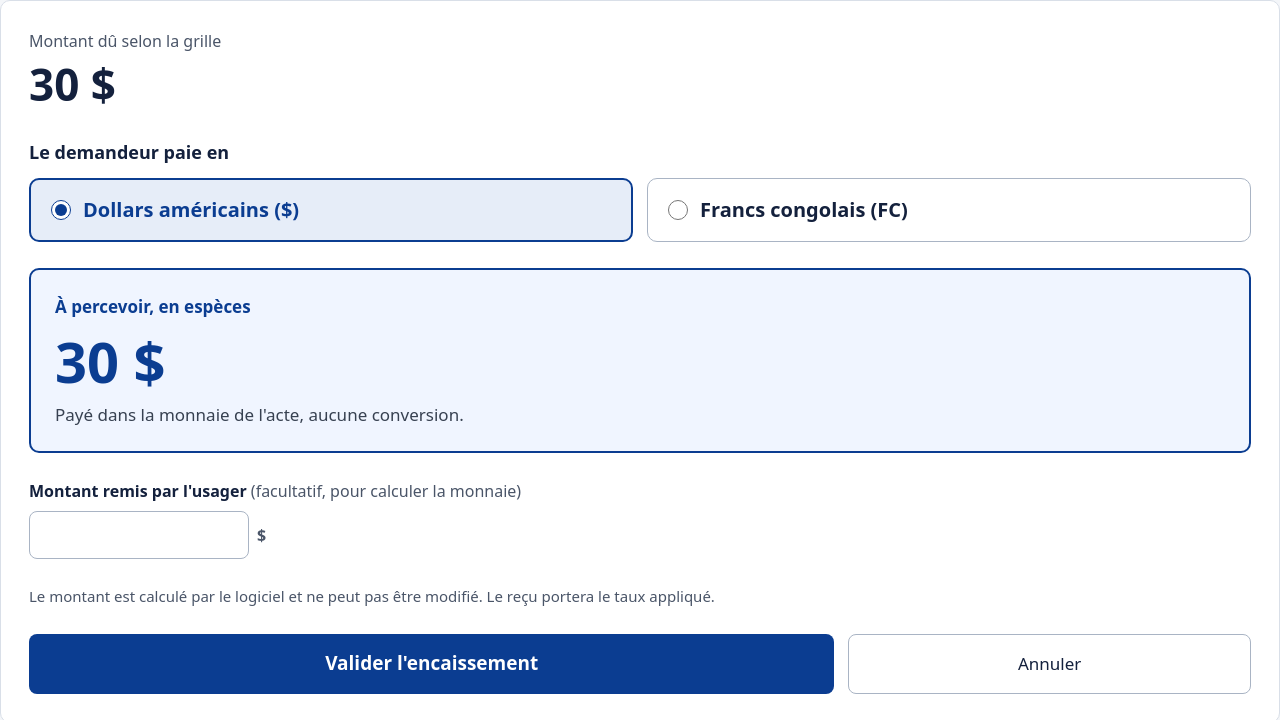
Test: Encaissement d'un acte en dollars › payé en $ par défaut ; en FC : 85 500 FC, calcul affiché
The width and height of the screenshot is (1280, 720).
Click the radio button labelled "Francs congolais (FC)" at (678, 210), box [668,200,688,220]
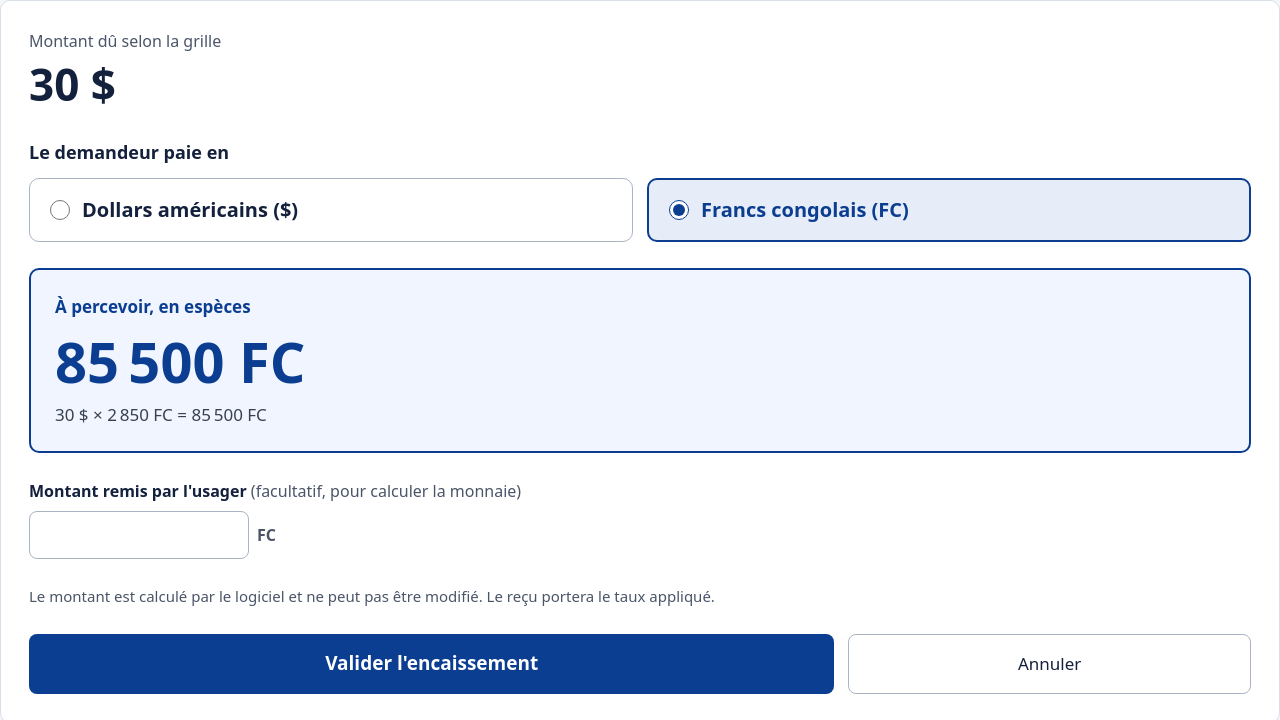
Check: the element with test id "a-percevoir" reads "À percevoir, en espèces 85 500 FC 30 $ × 2 850 FC = 85 500 FC", box [29,268,1251,453]
